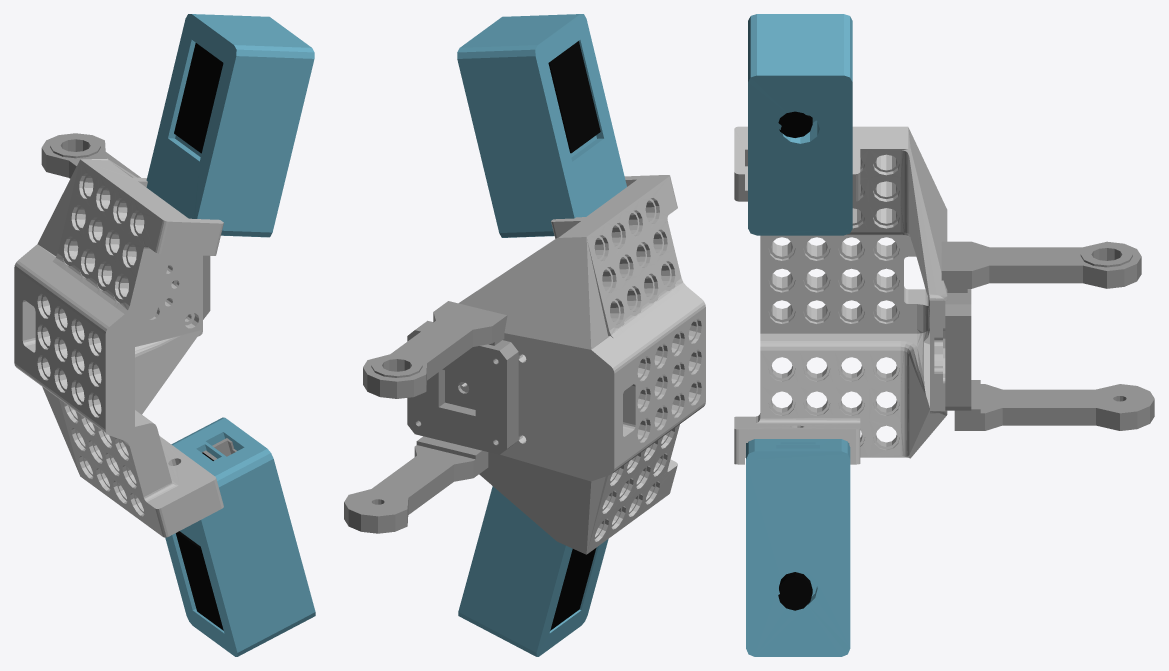
File: head-neck-p.glb
3 views of the same model, side by side, from view 1: azimuth 30°, elevation 25°; view 2: azimuth 150°, elevation 25°; view 3: azimuth 270°, elevation 25° (orthographic). The views are drawn at different scales.
Bounding box in the file's own units: 0.0558 × 0.1588 × 0.0967.
